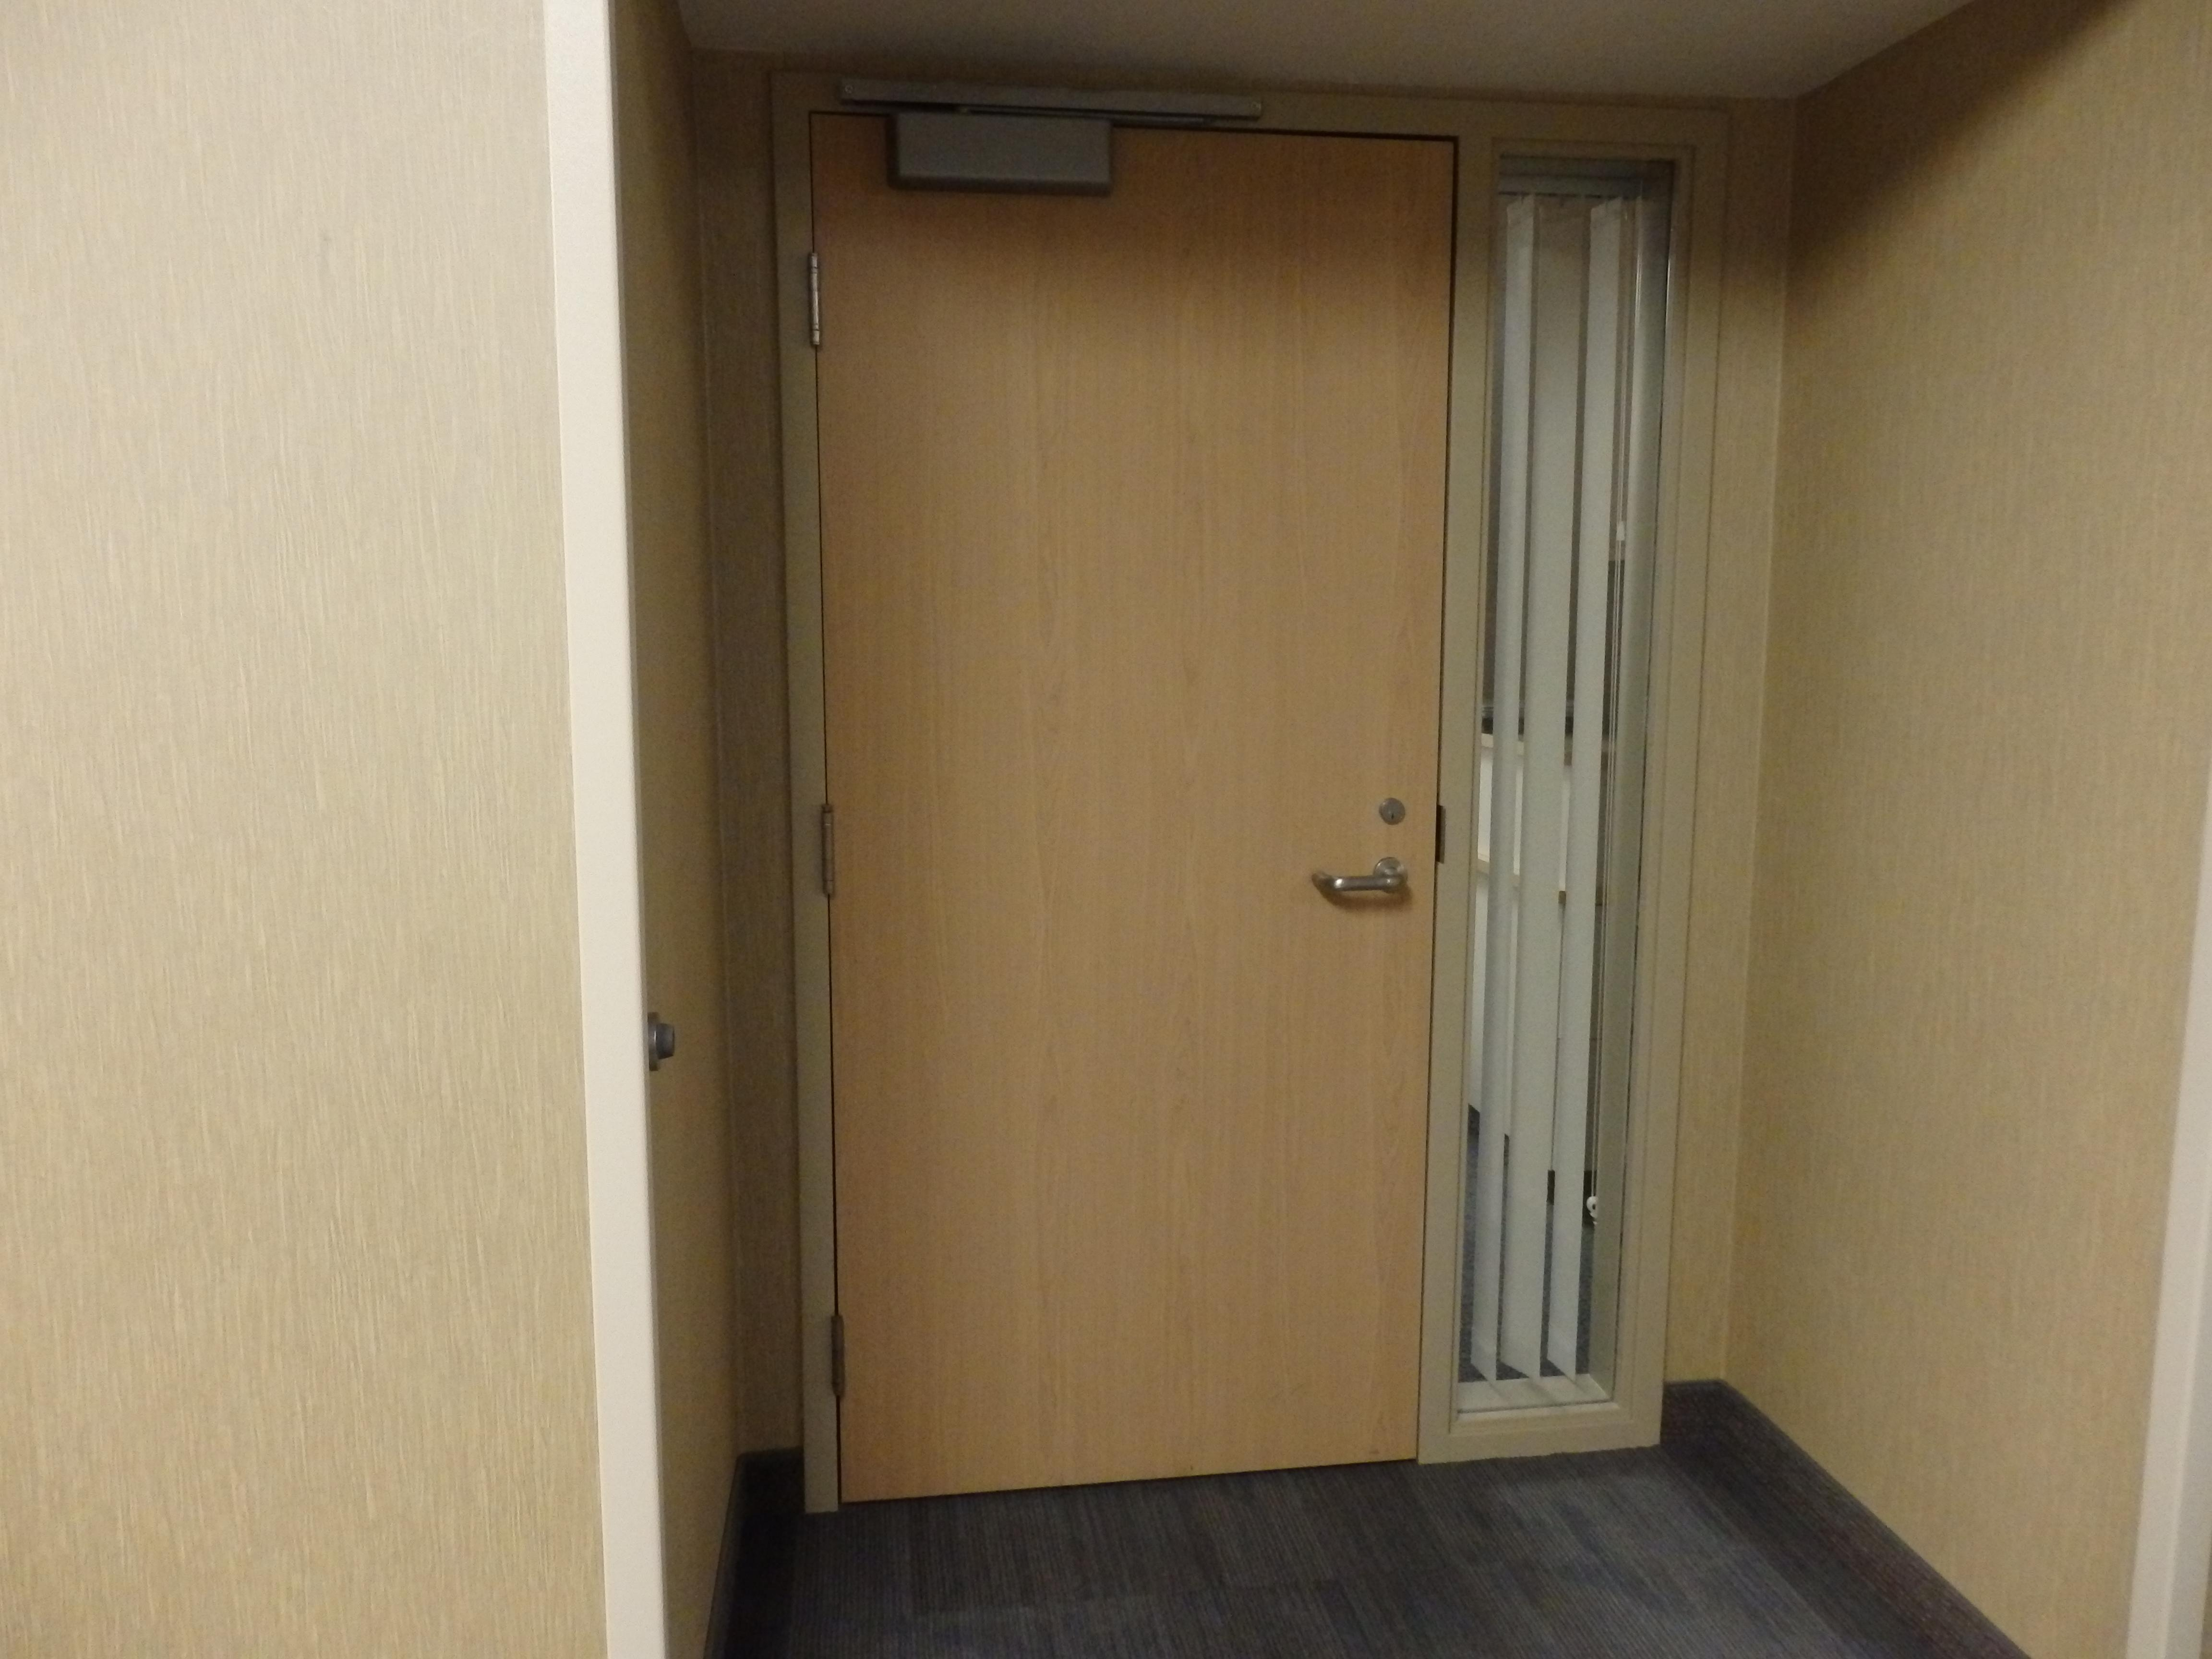door: (770, 73, 1503, 1511)
